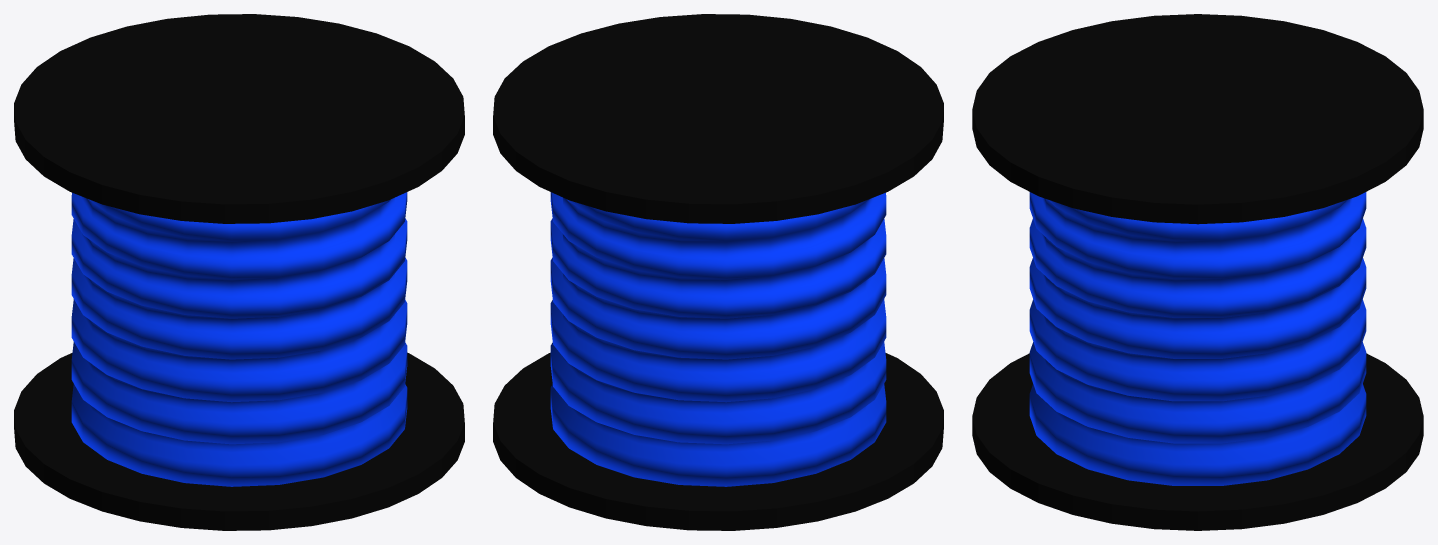
File: nano_wire.fbx
3 renders of one model, left to right at view 1: azimuth 30°, elevation 25°; view 2: azimuth 150°, elevation 25°; view 3: azimuth 270°, elevation 25°, orthographic.
Parts seen in each view (by area): view 1: Cylinder, Circle, Circle.001; view 2: Cylinder, Circle, Circle.001; view 3: Cylinder, Circle, Circle.001.
Part boxes in pixels (left/top/right/bottom): Cylinder: left=71, top=192, right=407, bottom=486; Circle: left=14, top=14, right=464, bottom=223; Circle.001: left=14, top=352, right=464, bottom=530; Cylinder: left=550, top=192, right=886, bottom=486; Circle: left=493, top=14, right=943, bottom=223; Circle.001: left=493, top=352, right=943, bottom=530; Cylinder: left=1029, top=192, right=1366, bottom=485; Circle: left=972, top=14, right=1423, bottom=224; Circle.001: left=972, top=353, right=1423, bottom=530.
Bounding box in the file's own units: 49.93 × 39.83 × 49.93.
